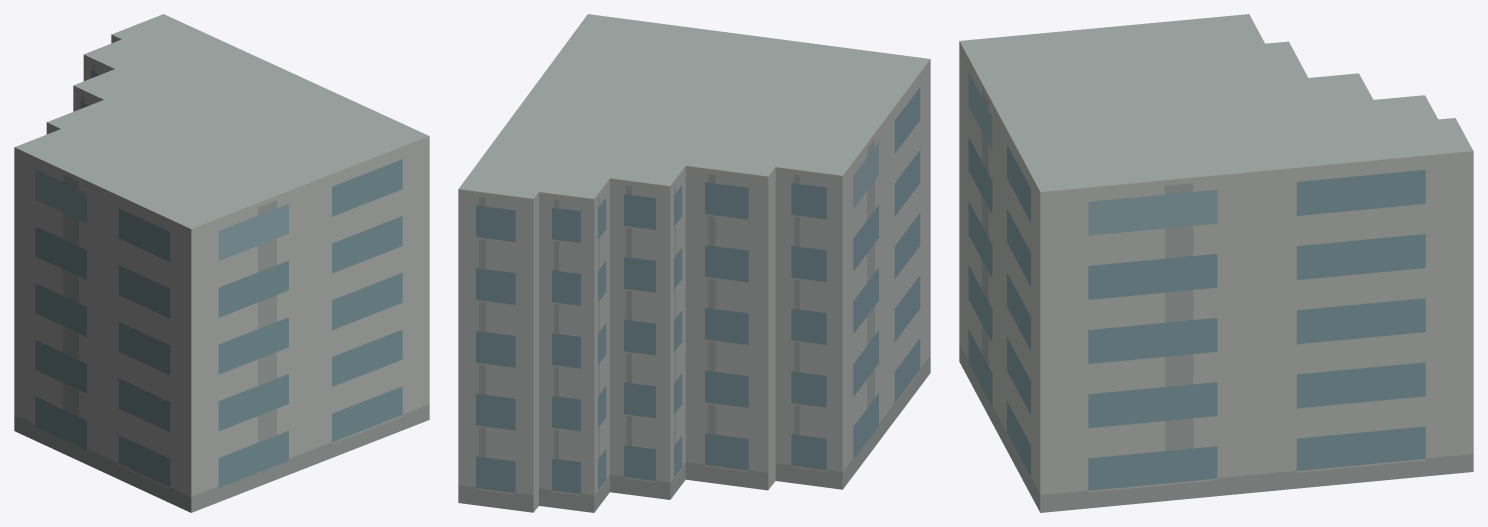
Rendered from survey-upis-32640504.glb.
The picture shows the model from 3 angles, left to right: view 1: azimuth 30°, elevation 25°; view 2: azimuth 150°, elevation 25°; view 3: azimuth 270°, elevation 25°; orthographic projection. The views are drawn at different scales.
Parts seen in each view (by area): view 1: survey-upis-32640504.tmp; view 2: survey-upis-32640504.tmp; view 3: survey-upis-32640504.tmp.
Part boxes in pixels (x1,y1,x2,y2): survey-upis-32640504.tmp: (14, 14, 429, 512); survey-upis-32640504.tmp: (458, 14, 930, 512); survey-upis-32640504.tmp: (959, 14, 1473, 512).
Bounding box in the file's own units: 17.28 × 14.5 × 21.07.
